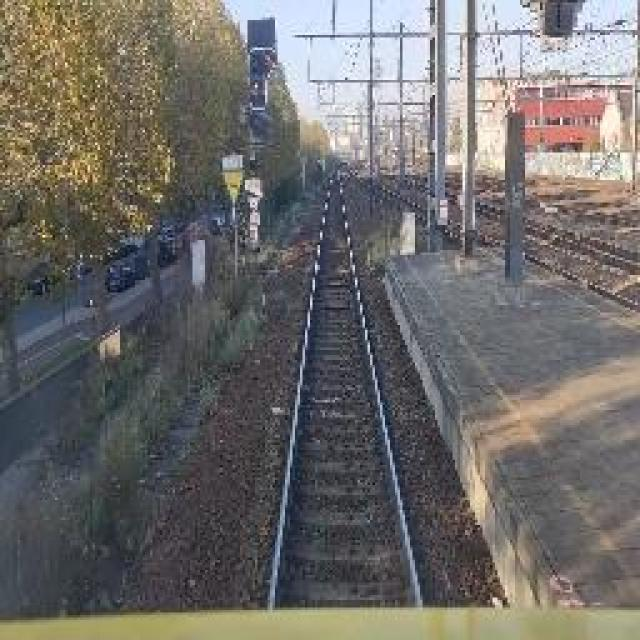rail: (232, 165, 462, 609)
